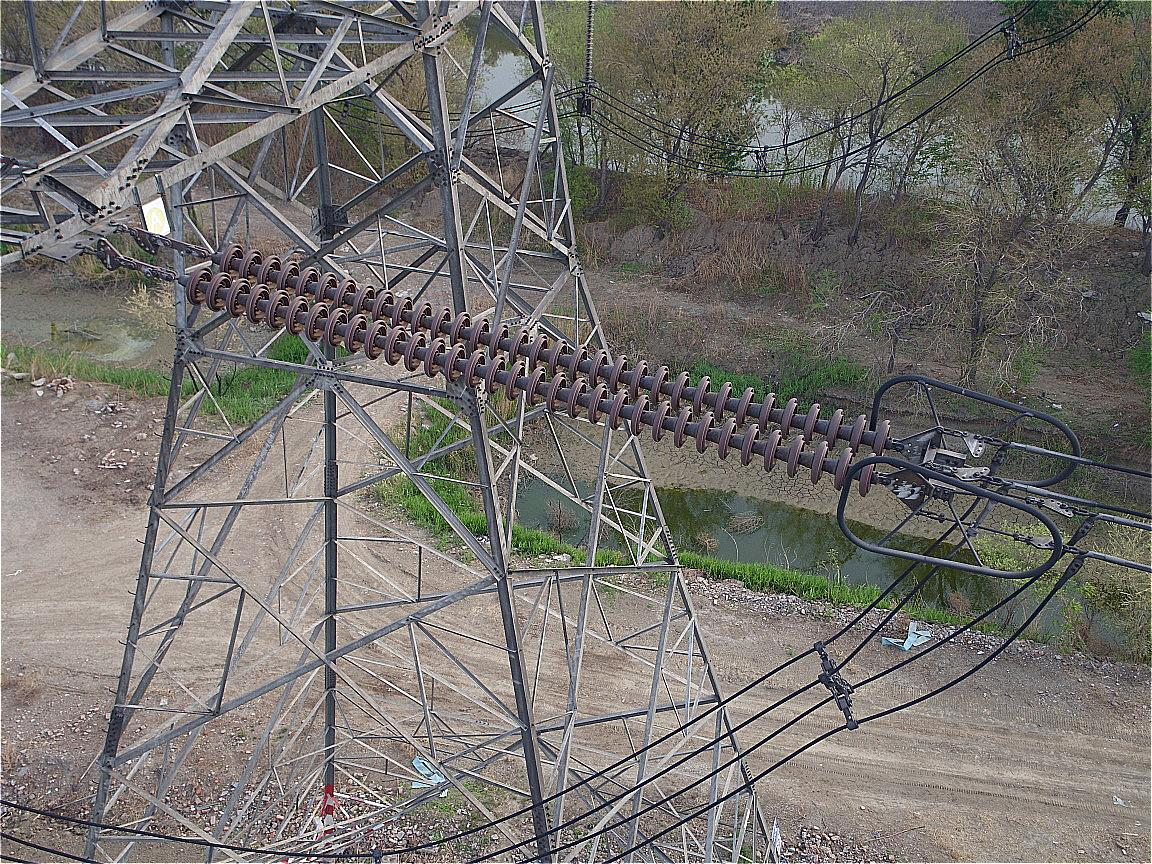insultor1: (173, 233, 915, 495)
